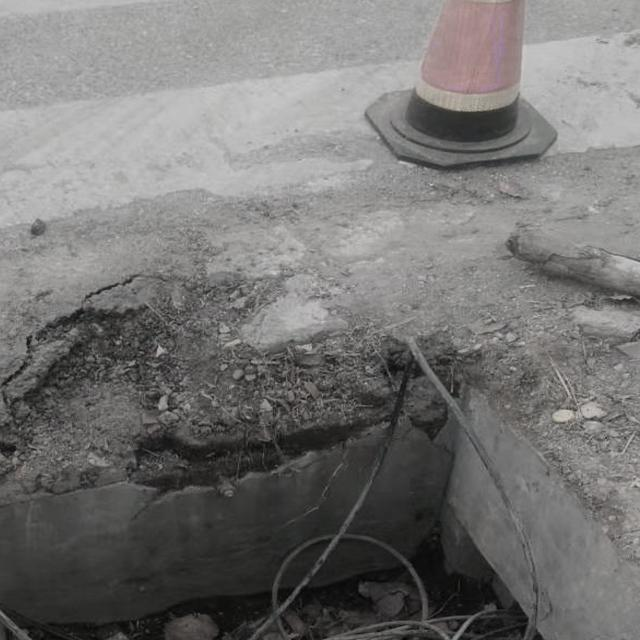lose: (0, 352, 640, 640)
